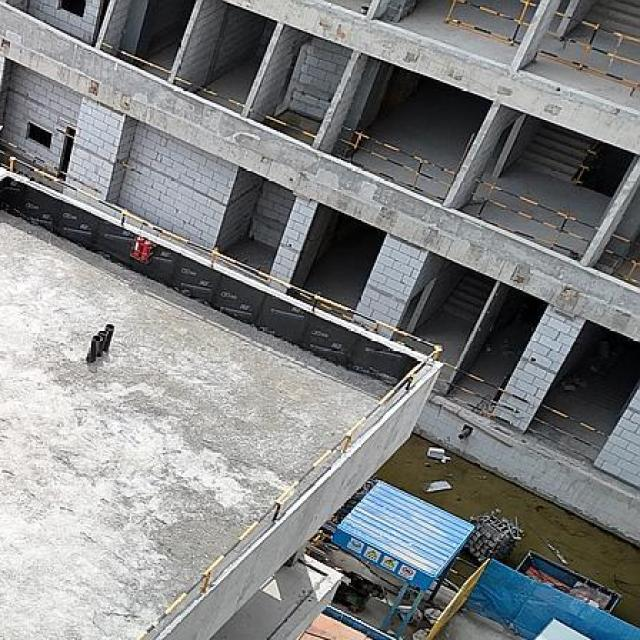Guardrail: (0, 145, 445, 640), (470, 177, 600, 250), (537, 10, 640, 97), (337, 123, 457, 188), (433, 361, 534, 425), (0, 138, 100, 193), (526, 404, 611, 461), (446, 0, 537, 46), (594, 233, 639, 286), (174, 75, 245, 108), (101, 42, 173, 74), (249, 108, 317, 139)
